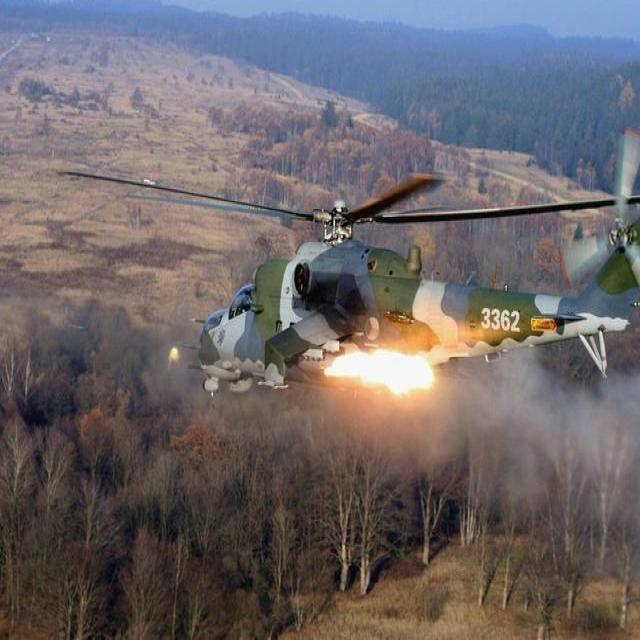MIL_HELO: (55, 127, 640, 396)
